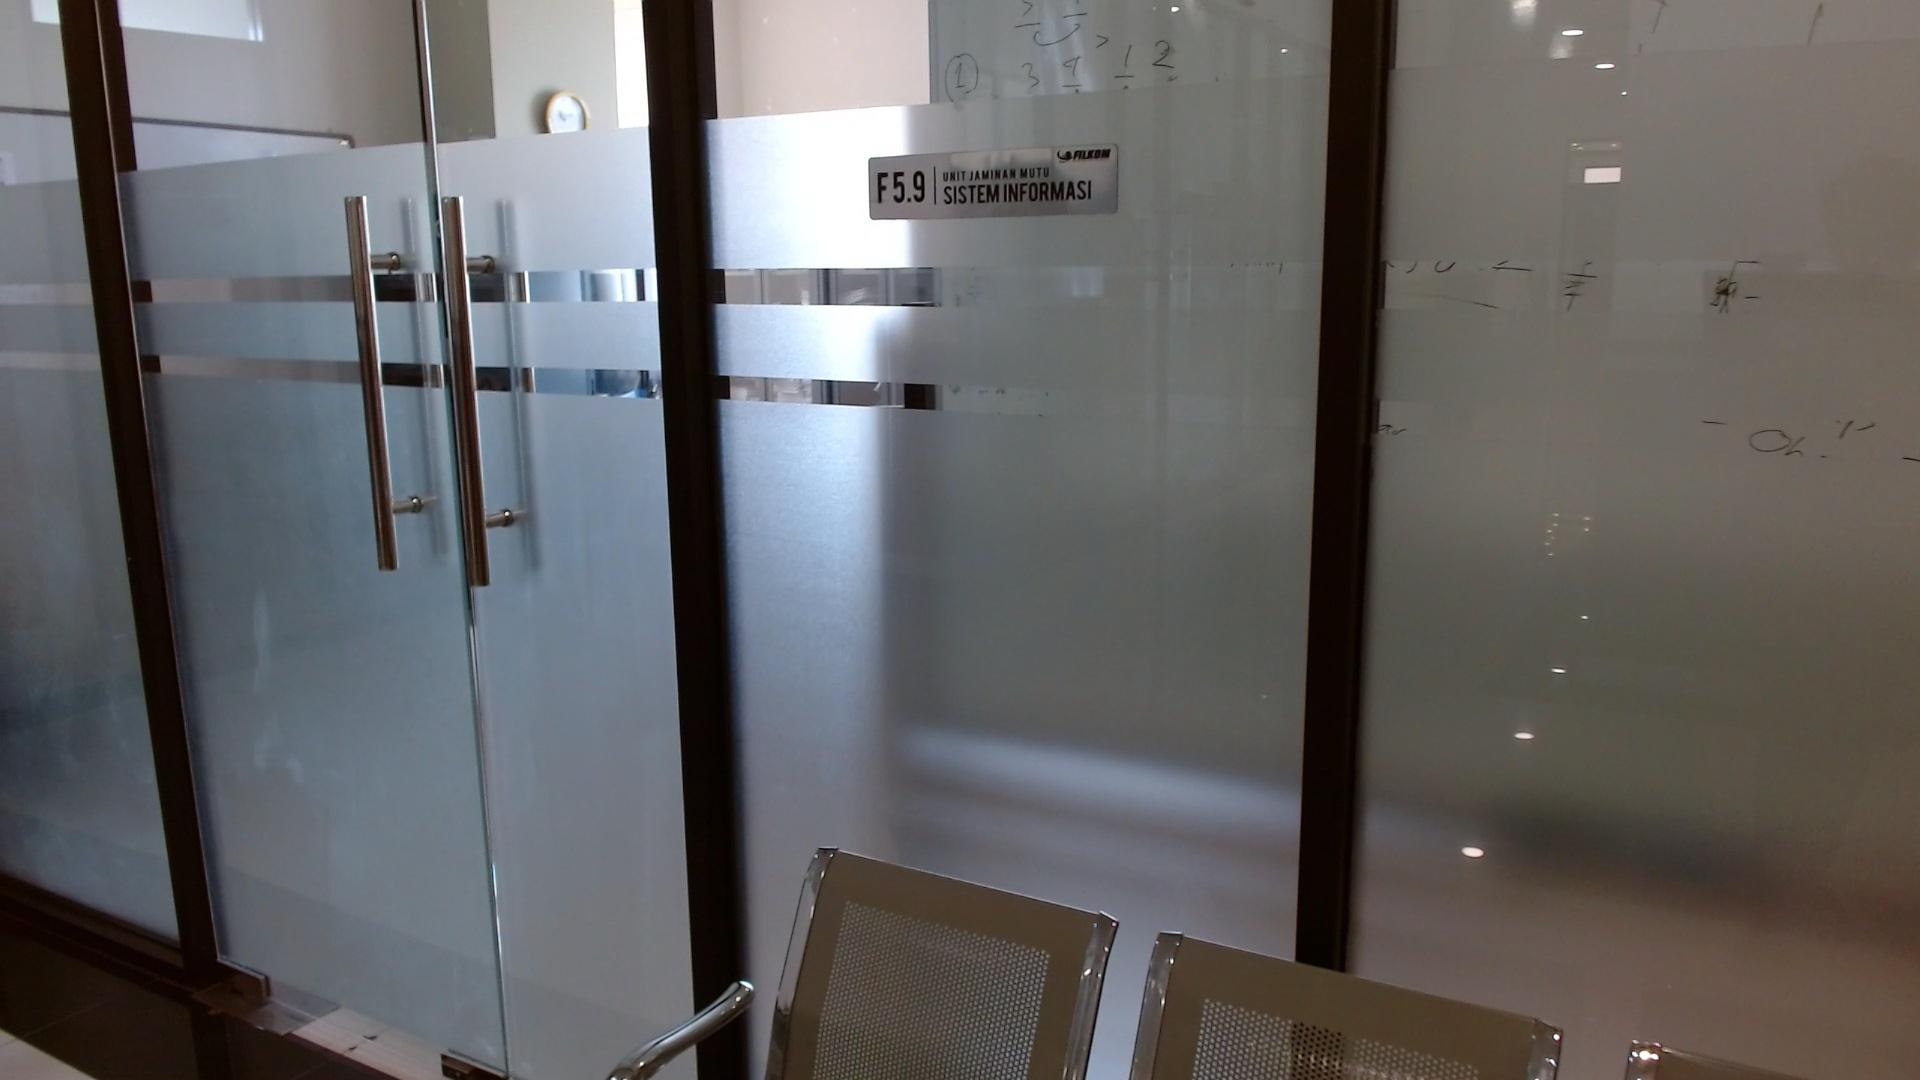plate: (869, 142, 1118, 220)
